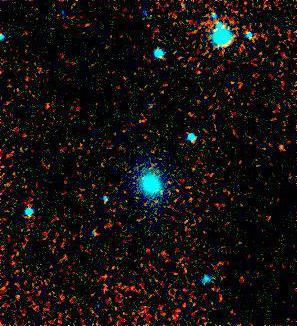star: (262, 129, 292, 159)
